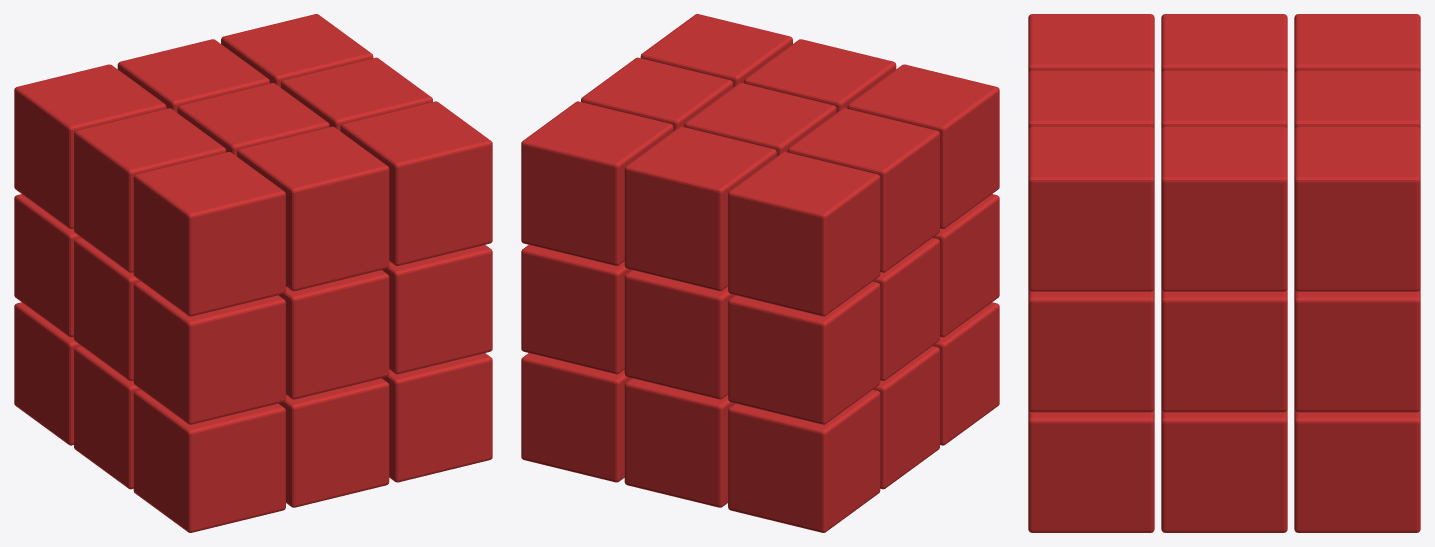
File: rubric3x3x3_red.glb
The picture shows the model from 3 angles, left to right: view 1: azimuth 30°, elevation 25°; view 2: azimuth 150°, elevation 25°; view 3: azimuth 270°, elevation 25°; orthographic projection. The views are drawn at different scales.
Visible parts, largest first — view 1: Cubelet_0_0_2, Cubelet_0_0_1, Cubelet_0_0_0, Cubelet_1_0_2, Cubelet_2_0_2, Cubelet_0_2_2, Cubelet_0_1_2, Cubelet_1_0_0, Cubelet_2_0_0, Cubelet_2_0_1, Cubelet_1_0_1, Cubelet_0_2_0 (+7 smaller); view 2: Cubelet_0_2_2, Cubelet_0_2_1, Cubelet_0_2_0, Cubelet_1_2_2, Cubelet_2_2_2, Cubelet_0_0_2, Cubelet_0_1_2, Cubelet_1_2_0, Cubelet_2_2_0, Cubelet_2_2_1, Cubelet_1_2_1, Cubelet_0_0_0 (+7 smaller); view 3: Cubelet_2_1_2, Cubelet_2_0_2, Cubelet_2_2_2, Cubelet_2_0_1, Cubelet_2_2_1, Cubelet_2_1_1, Cubelet_2_0_0, Cubelet_2_1_0, Cubelet_2_2_0, Cubelet_0_1_2, Cubelet_1_1_2, Cubelet_0_0_2 (+3 smaller).
Part boxes in pixels (x1,y1,x2,y2): Cubelet_0_0_2: (133,152,285,316); Cubelet_0_0_1: (133,281,285,424); Cubelet_0_0_0: (133,389,285,532); Cubelet_1_0_2: (237,126,389,291); Cubelet_2_0_2: (340,101,492,265); Cubelet_0_2_2: (14,64,166,228); Cubelet_0_1_2: (74,108,226,272); Cubelet_1_0_0: (278,378,389,507); Cubelet_2_0_0: (382,353,492,482); Cubelet_2_0_1: (382,245,492,374); Cubelet_1_0_1: (278,270,389,399); Cubelet_0_2_0: (14,302,80,445); Cubelet_0_2_2: (728,152,880,316); Cubelet_0_2_1: (728,281,880,424); Cubelet_0_2_0: (728,389,880,532); Cubelet_1_2_2: (624,126,776,291); Cubelet_2_2_2: (521,101,673,265); Cubelet_0_0_2: (847,64,999,228); Cubelet_0_1_2: (787,108,939,272); Cubelet_1_2_0: (624,378,735,507); Cubelet_2_2_0: (521,353,631,482); Cubelet_2_2_1: (521,245,631,374); Cubelet_1_2_1: (624,270,735,399); Cubelet_0_0_0: (933,302,999,445); Cubelet_2_1_2: (1161,126,1287,291); Cubelet_2_0_2: (1028,126,1154,291); Cubelet_2_2_2: (1294,126,1420,291); Cubelet_2_0_1: (1028,288,1154,412); Cubelet_2_2_1: (1294,288,1420,412); Cubelet_2_1_1: (1161,289,1287,412); Cubelet_2_0_0: (1028,409,1154,532); Cubelet_2_1_0: (1161,409,1287,532); Cubelet_2_2_0: (1294,409,1420,532); Cubelet_0_1_2: (1161,14,1287,73); Cubelet_1_1_2: (1161,70,1287,129); Cubelet_0_0_2: (1028,14,1154,73).
Size of the model in its own units: 2.95 by 2.95 by 2.95.
